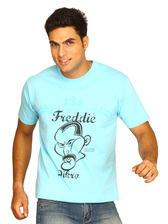clothoes: (12, 60, 153, 205)
